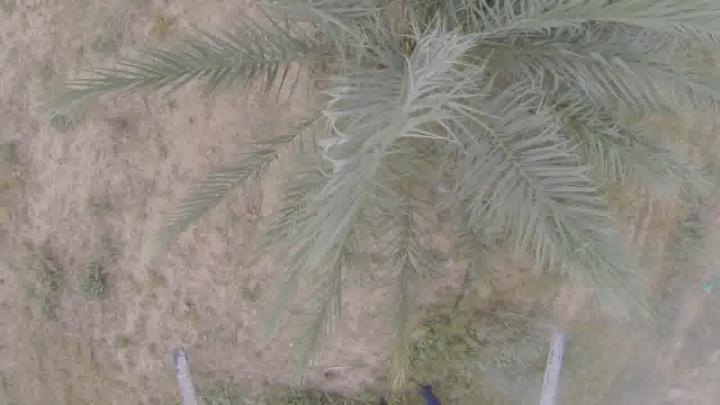Date-Palm-Crown: (266, 1, 614, 202)
